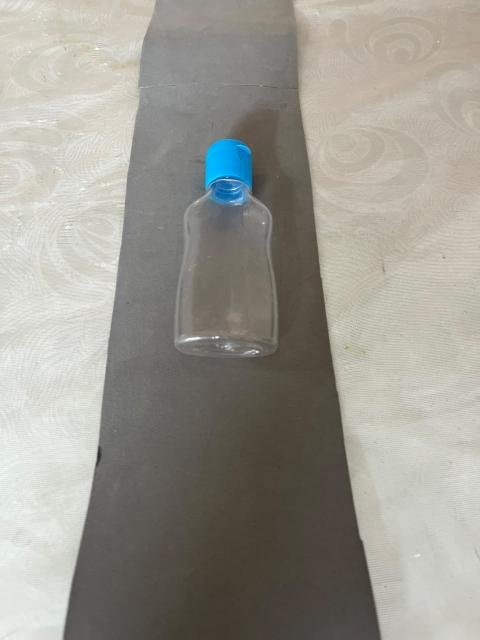PET: (156, 106, 316, 409)
